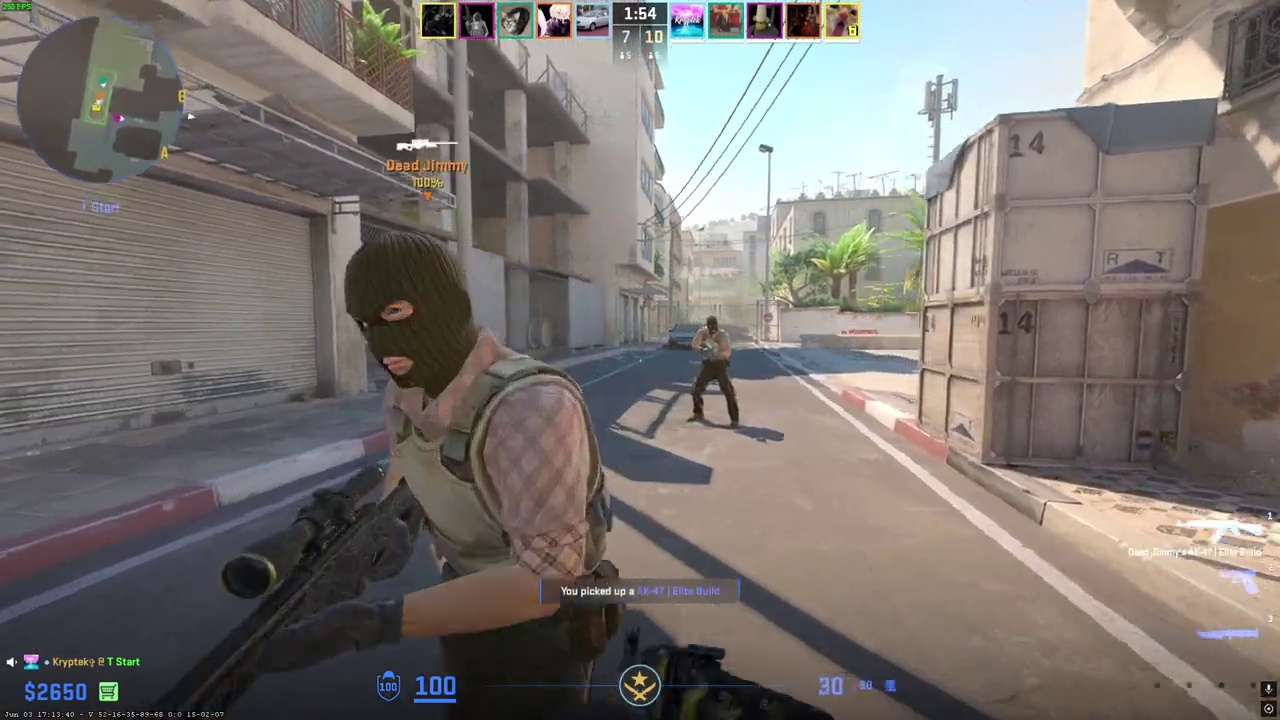Terrorist: (306, 231, 622, 720), (689, 316, 739, 427)
